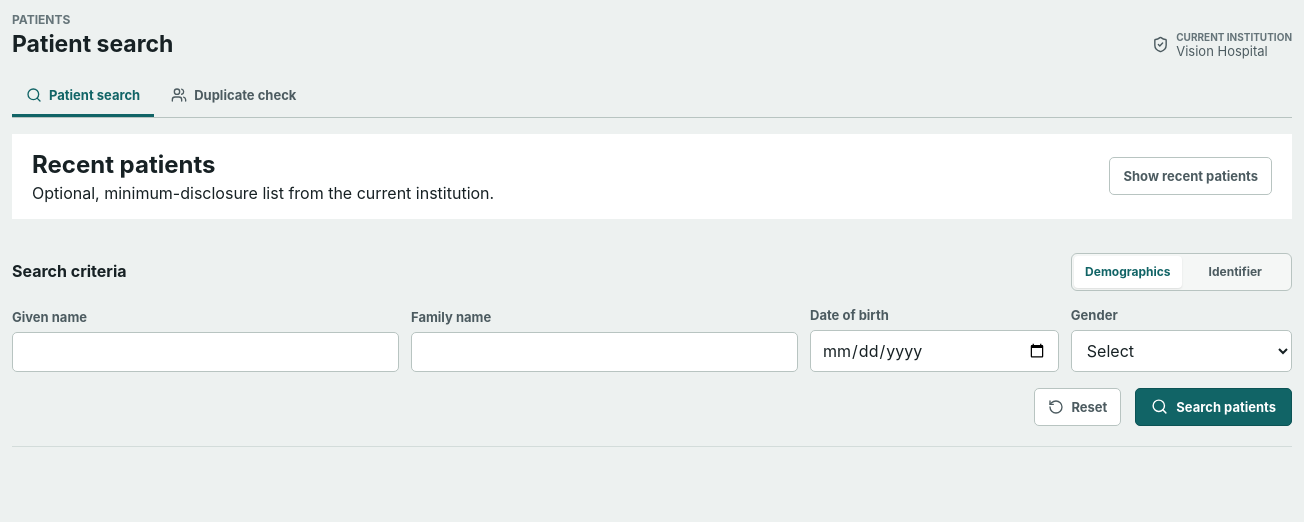
PatientSearchPage › maps HTTP 403 without exposing request criteria
Type "SensitiveName" into the field labelled "Family name" at (604, 352), box left=411, top=332, right=798, bottom=372
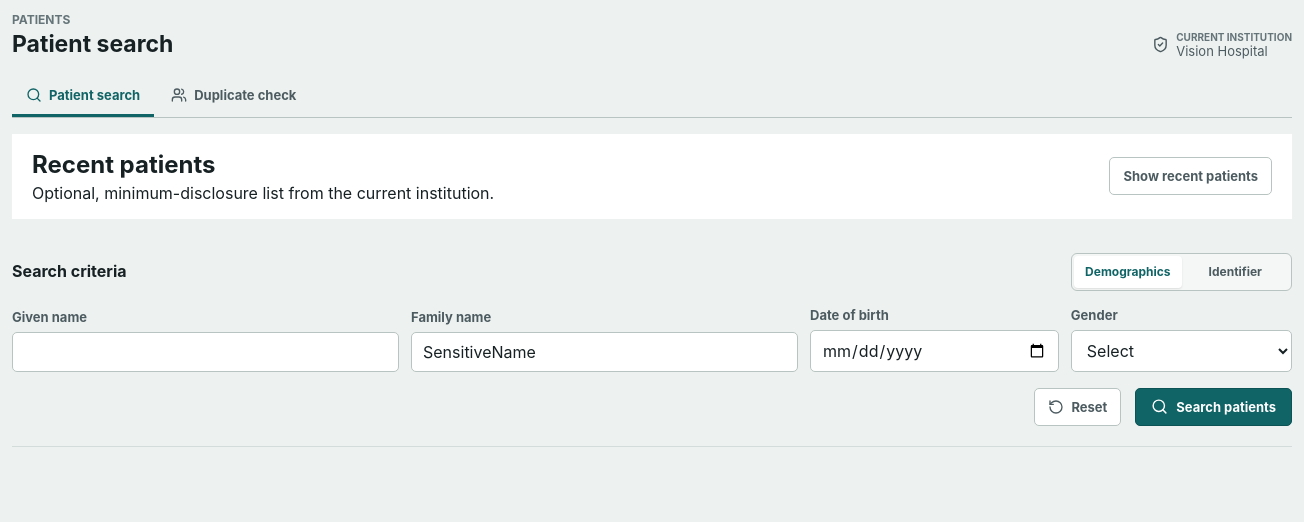
Type "1980-02-03" into the date field labelled "Date of birth" at (934, 351), box left=810, top=330, right=1059, bottom=372
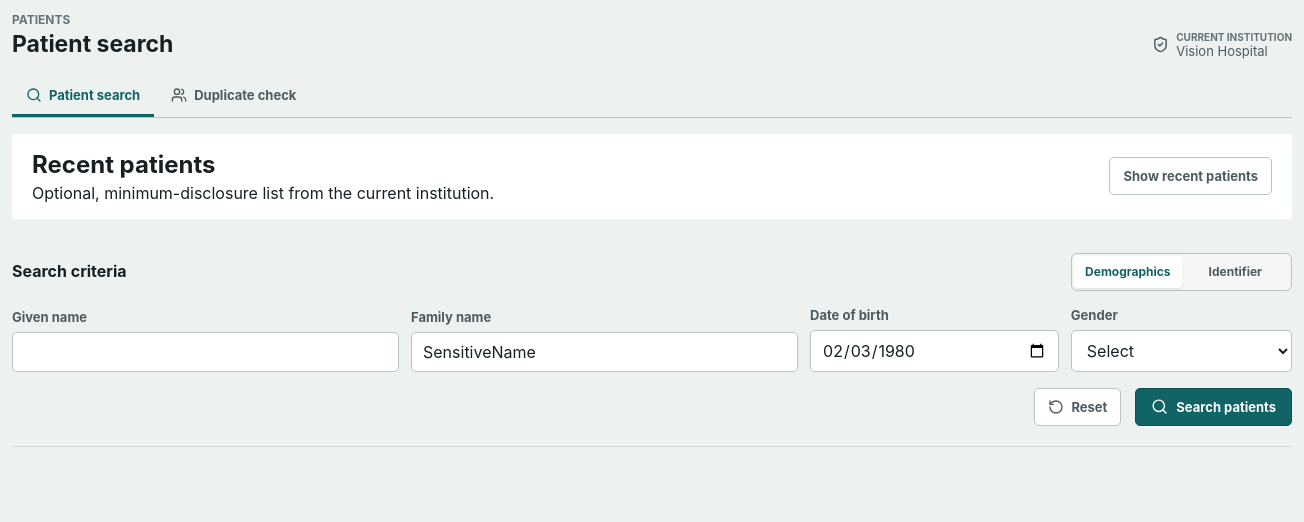
Select "Female" in the dropdown labelled "Gender" at (1181, 351), box left=1071, top=330, right=1292, bottom=372
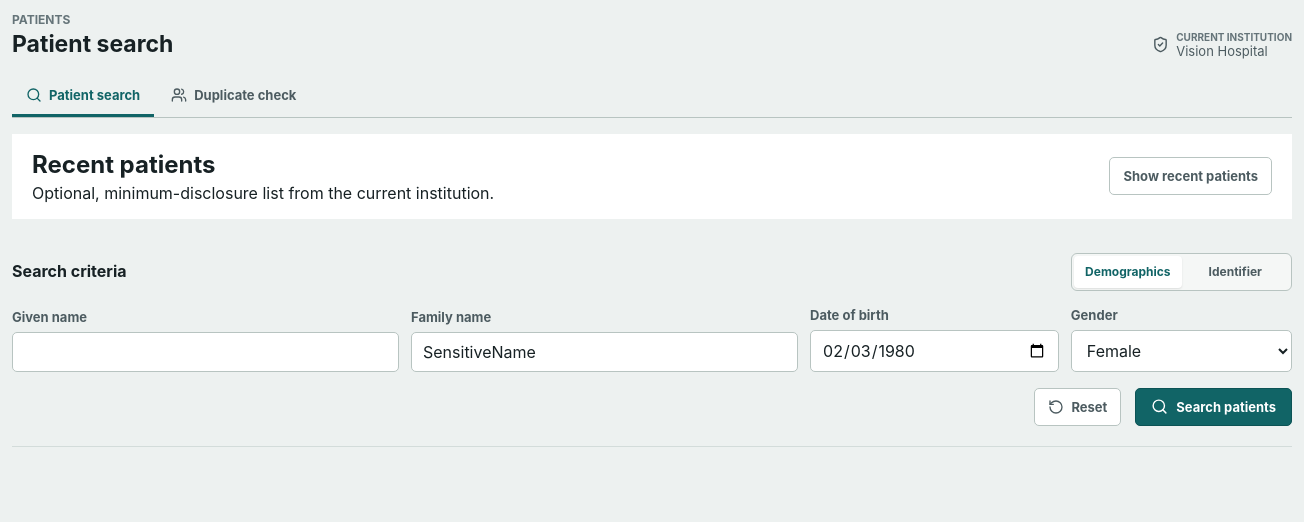
Click the button "Search patients" at (1214, 407), box left=1135, top=388, right=1292, bottom=426
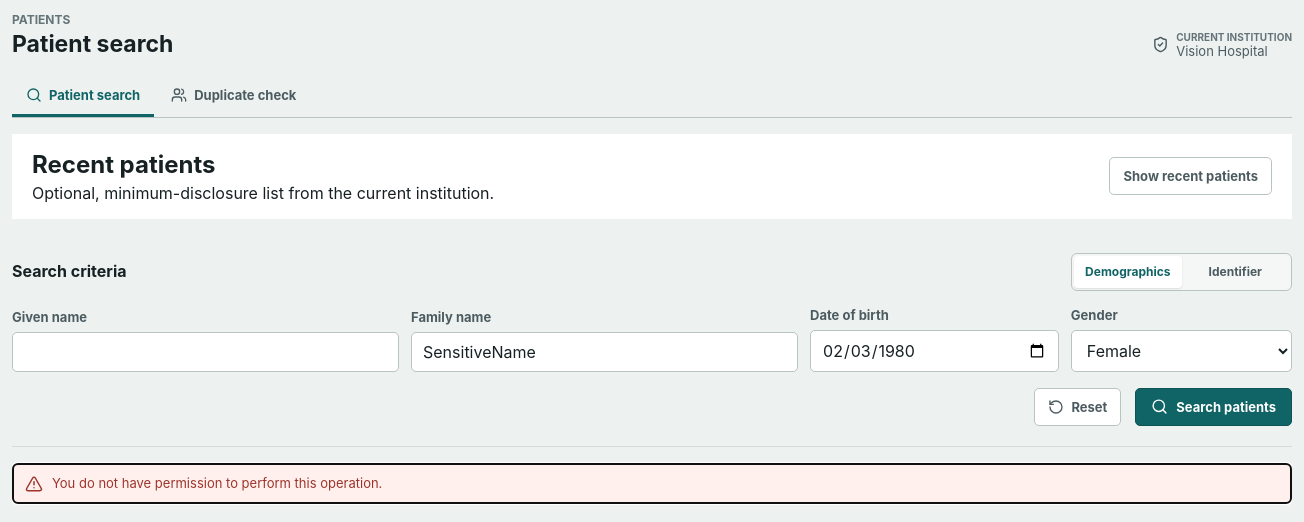
Expected: the message does not show "SensitiveName", left=12, top=463, right=1292, bottom=504
Result: the message shows "You do not have permission" at left=52, top=475, right=382, bottom=491
